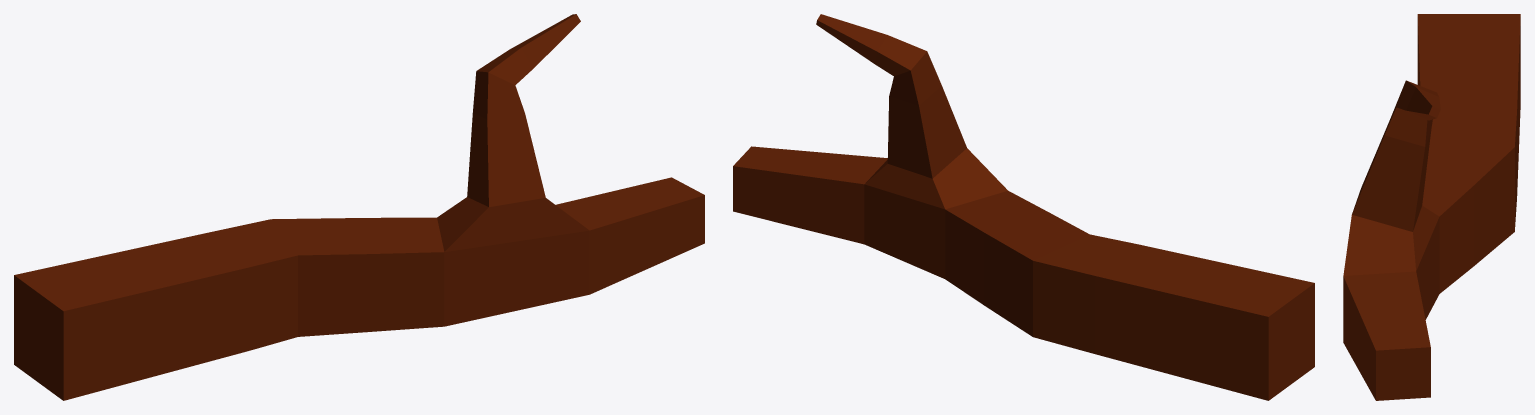
File: Tree2.fbx
3 renders of one model, left to right at view 1: azimuth 30°, elevation 25°; view 2: azimuth 150°, elevation 25°; view 3: azimuth 270°, elevation 25°, orthographic. The views are drawn at different scales.
Parts seen in each view (by area): view 1: Vert.004; view 2: Vert.004; view 3: Vert.004.
Part boxes in pixels (x1,y1,x2,y2): Vert.004: (14, 14, 704, 400); Vert.004: (733, 14, 1314, 400); Vert.004: (1343, 14, 1520, 400).
Bounding box in the file's own units: 1127 × 442 × 268.
